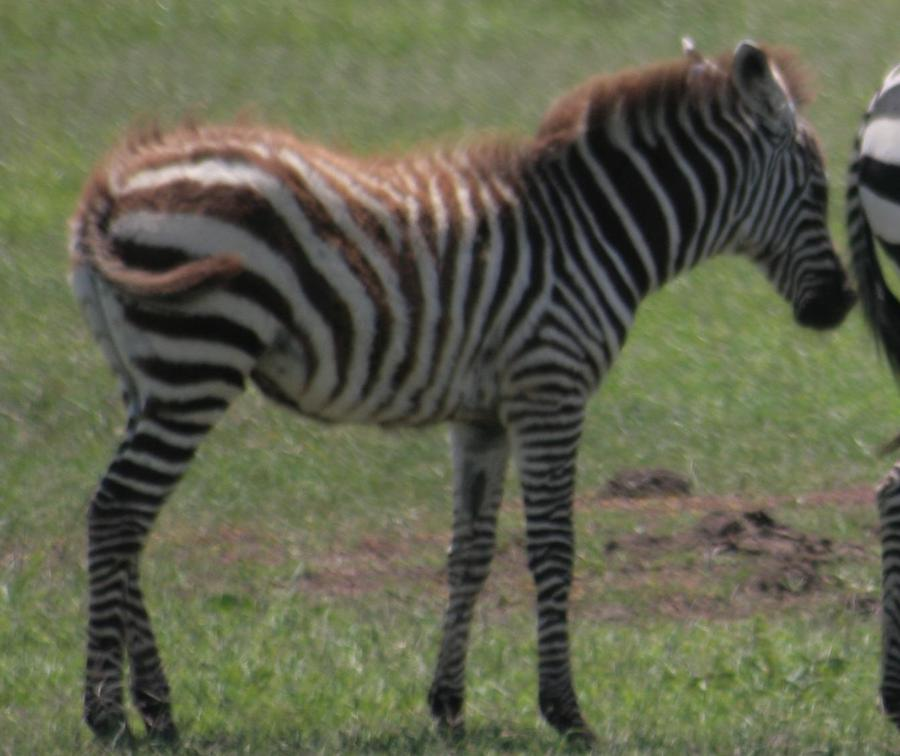zebra_plains: (80, 111, 636, 454)
